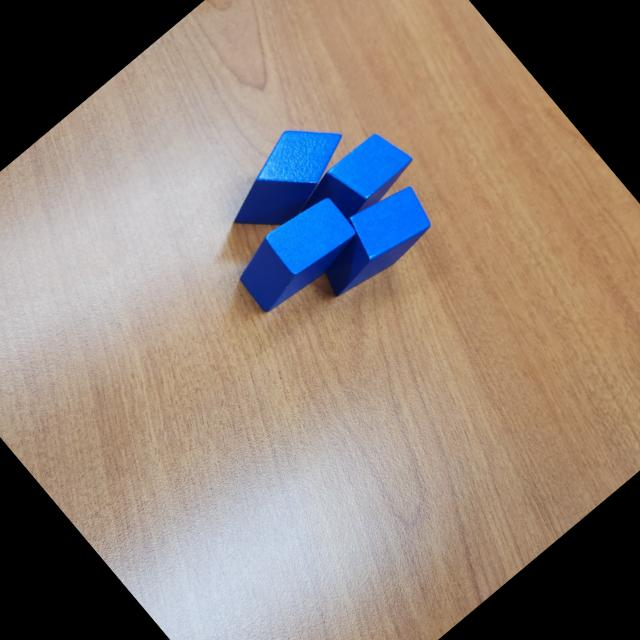blue: (210, 103, 364, 249), (302, 172, 442, 306), (226, 187, 366, 319), (289, 122, 420, 245)
